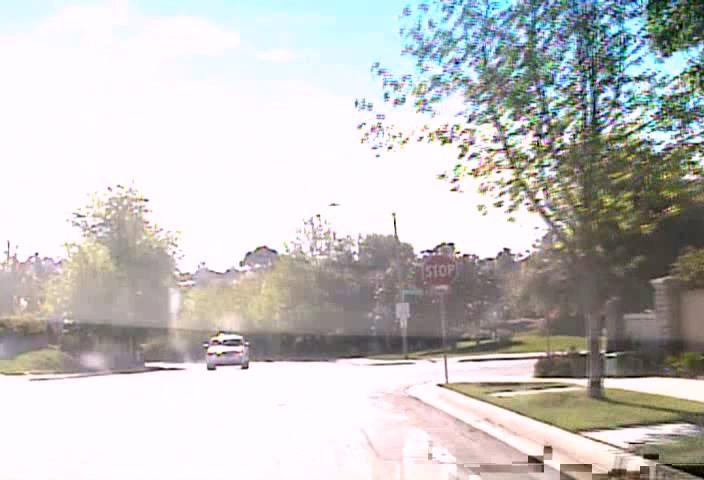stop: (421, 253, 457, 287)
